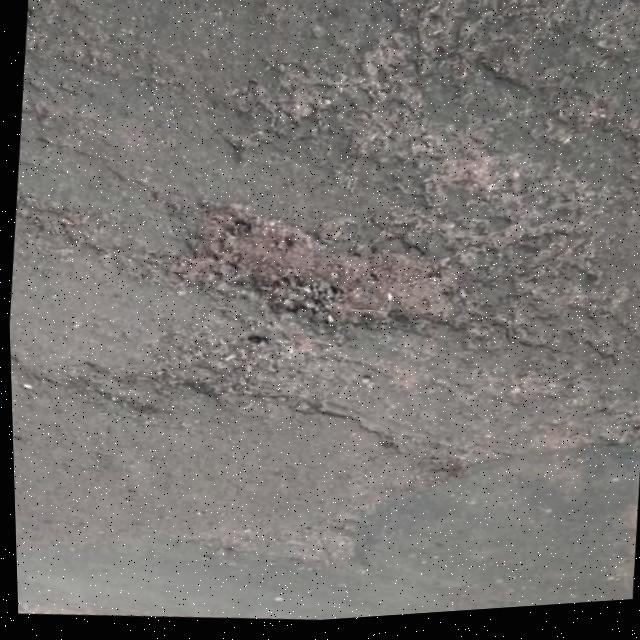Pothole: (176, 185, 474, 357), (173, 327, 320, 426)
